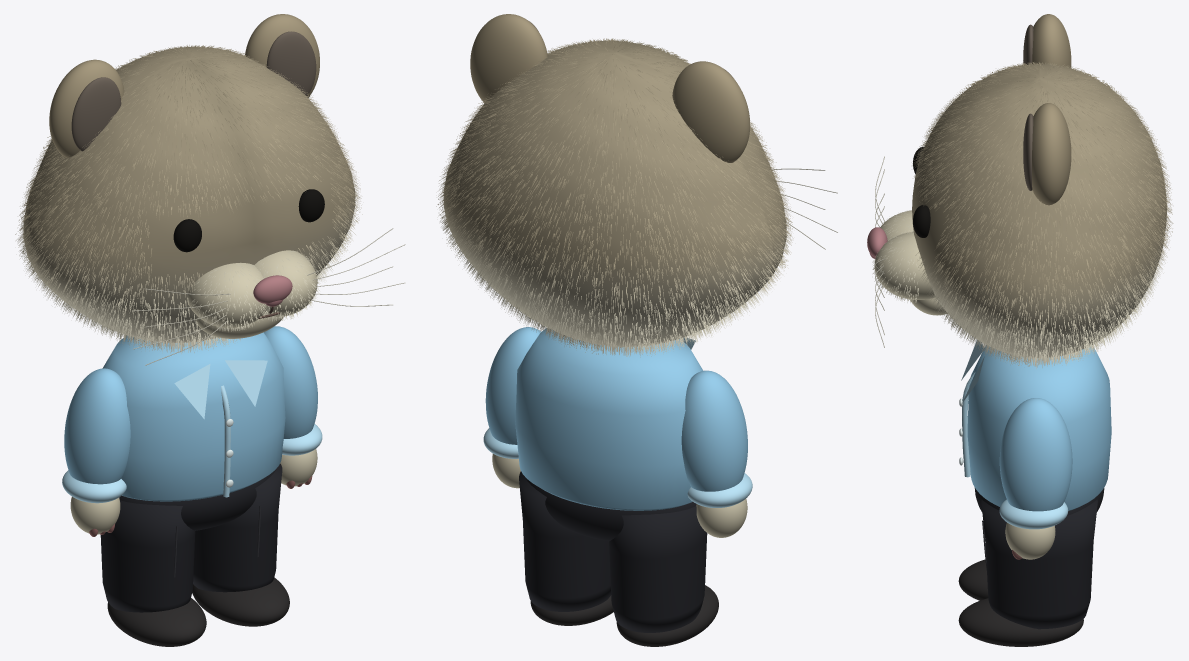
Rendered from hamster.glb.
The picture shows the model from 3 angles, left to right: view 1: azimuth 30°, elevation 25°; view 2: azimuth 150°, elevation 25°; view 3: azimuth 270°, elevation 25°; orthographic projection. The views are drawn at different scales.
Parts seen in each view (by area): view 1: HeadShape, ShortFur, Shirt, ShirtSleeve (×2), TrouserL, TrouserR, Muzzle (×2), Shoe (×2), Ear (×2), InnerEar (×2), TrouserWaist, Hand (×2) (+6 smaller); view 2: HeadShape, ShortFur, Shirt, TrouserL, ShirtSleeve (×2), Ear (×2), TrouserR, Shoe (×2), TrouserWaist, Hand (×2), Cuff; view 3: HeadShape, ShortFur, Shirt, TrouserR, ShirtSleeve, Ear (×2), Shoe (×2), Muzzle (×2), Hand, Cuff, InnerEar, ButtonPlacket (+1 smaller).
Boxes of the visible parts, x1,y1,x2,y2 form: HeadShape: (23, 47, 355, 342); ShortFur: (15, 45, 362, 353); Shirt: (102, 332, 285, 501); ShirtSleeve (×2): (64, 326, 317, 484); TrouserL: (100, 500, 195, 612); TrouserR: (193, 463, 282, 592); Muzzle (×2): (187, 250, 317, 328); Shoe (×2): (107, 577, 289, 646); Ear (×2): (49, 14, 319, 157); InnerEar (×2): (71, 31, 316, 151); TrouserWaist: (119, 469, 276, 530); Hand (×2): (70, 449, 317, 534); HeadShape: (443, 41, 786, 346); ShortFur: (436, 38, 793, 357); Shirt: (515, 328, 703, 510); TrouserL: (609, 506, 707, 632); ShirtSleeve (×2): (485, 327, 747, 491); Ear (×2): (470, 14, 749, 162); TrouserR: (519, 471, 611, 611); Shoe (×2): (530, 585, 718, 646); TrouserWaist: (525, 477, 696, 541); Hand (×2): (492, 454, 747, 537); Cuff: (687, 473, 752, 507); HeadShape: (912, 64, 1166, 357); ShortFur: (872, 62, 1173, 368); Shirt: (967, 345, 1111, 510); TrouserR: (981, 499, 1097, 629); ShirtSleeve: (999, 398, 1072, 511); Ear (×2): (1032, 14, 1071, 205); Shoe (×2): (958, 559, 1083, 646); Muzzle (×2): (874, 210, 935, 299); Hand: (1005, 522, 1055, 559); Cuff: (999, 499, 1068, 529); InnerEar: (1023, 113, 1033, 190); ButtonPlacket: (962, 371, 975, 477).
Bounding box in the file's own units: 1.58 × 2.71 × 1.35.
